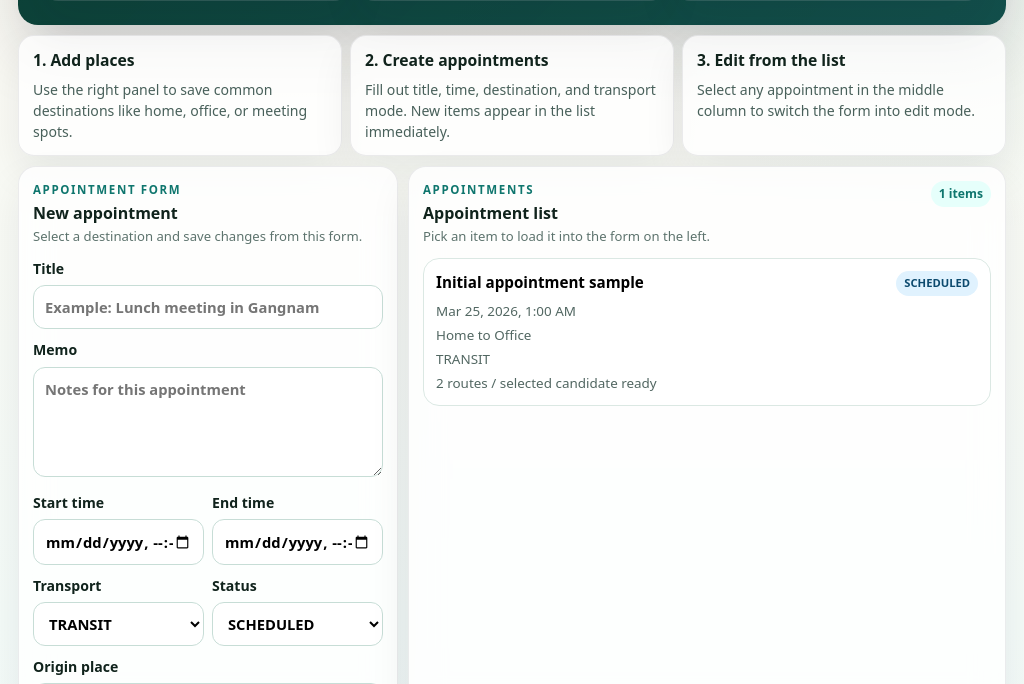
it: SchedulerDashboardPage › shows a route form error when route creation fails
This screenshot has width=1024, height=684.
(page scrolled)
Click the button "Initial appointment sample" at (540, 282), box [423,258,991,406]
(page scrolled)
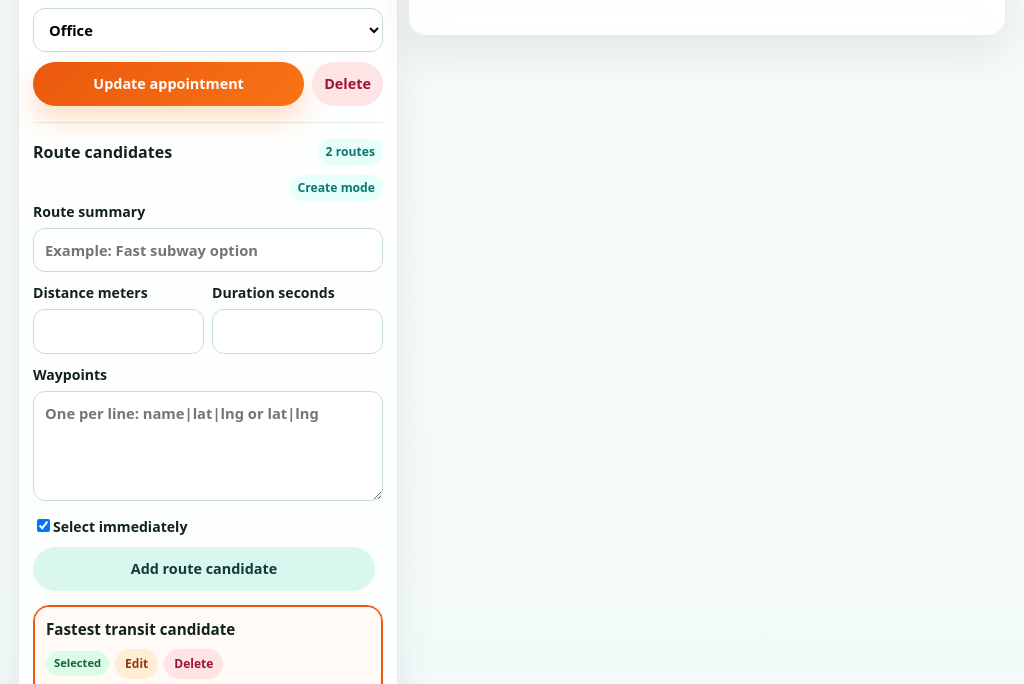
Type "1200" into the number field labelled "Distance meters" at (118, 332), box [33,310,204,354]
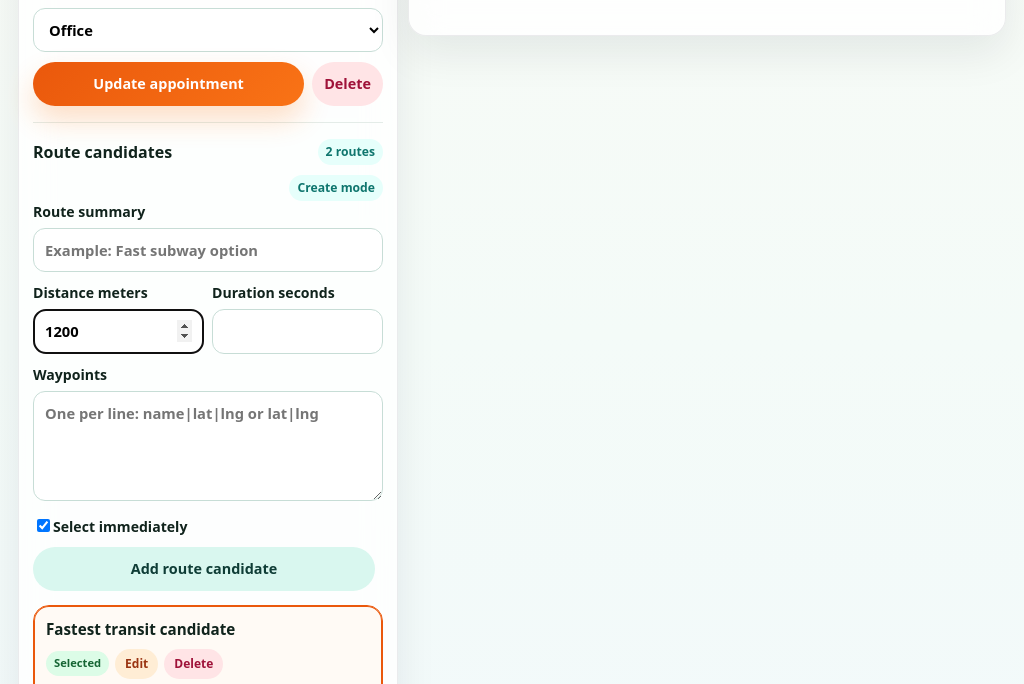
Type "900" into the number field labelled "Duration seconds" at (298, 332), box [212,310,383,354]
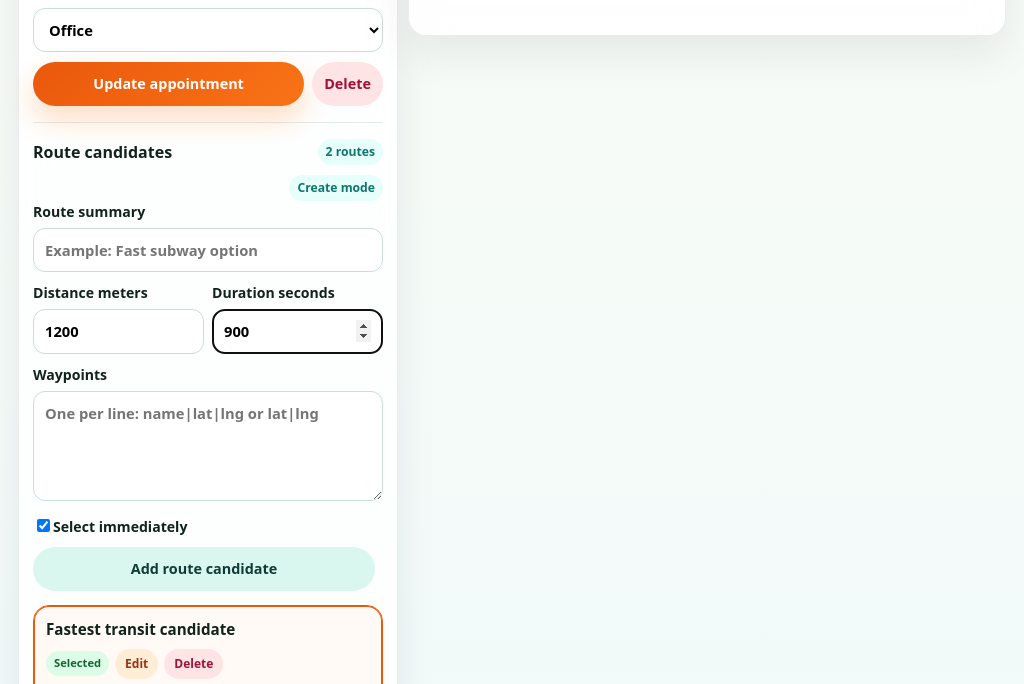
Click the button "Add route candidate" at (204, 569), box [33,547,375,591]
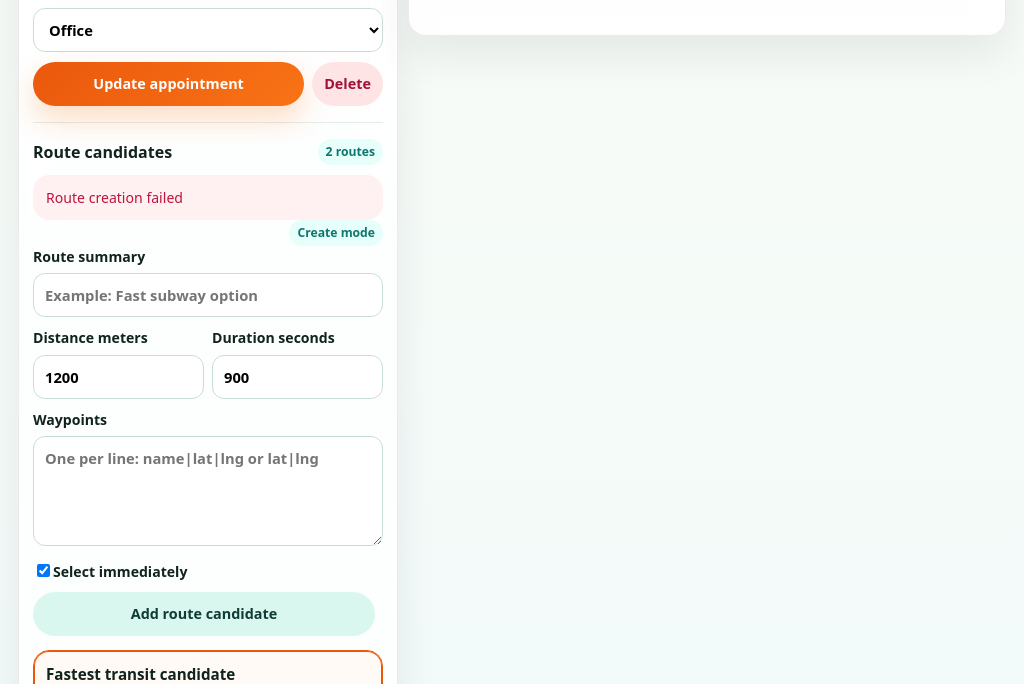
expect the text "Route creation failed" is shown: met, box [33,175,383,220]
